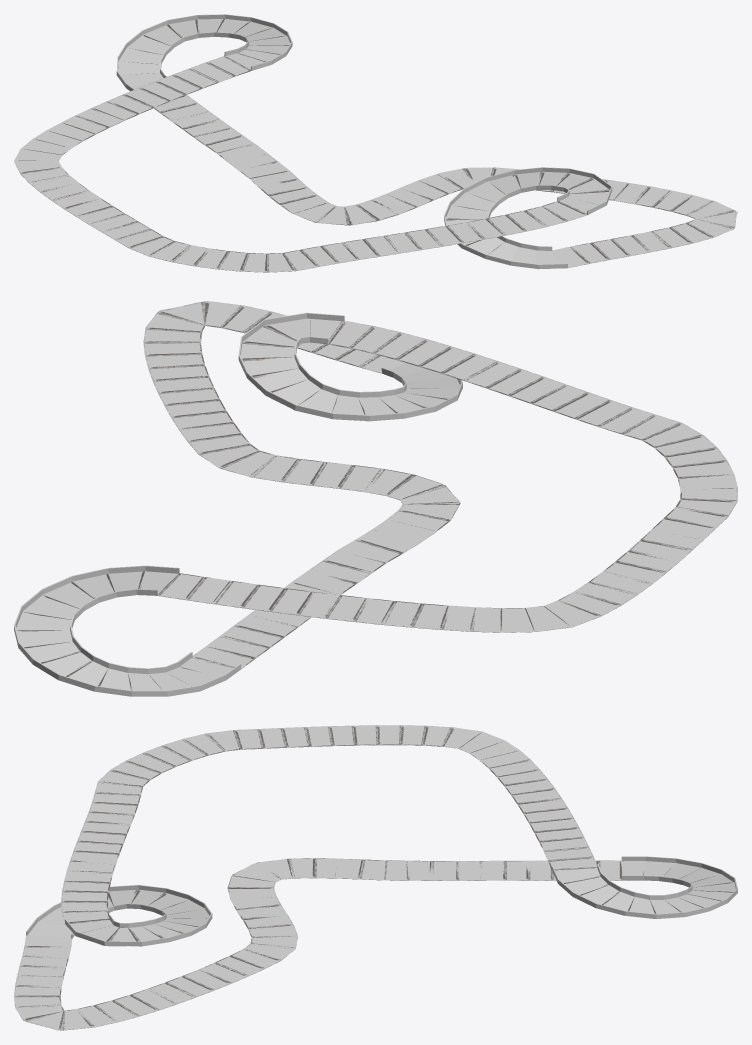
File: Track2.fbx
3 views of the same model, one above another, from view 1: azimuth 30°, elevation 25°; view 2: azimuth 150°, elevation 25°; view 3: azimuth 270°, elevation 25° (orthographic). The views are drawn at different scales.
Visible parts, largest first — view 1: TrackFloor, TrackHolo, TrackStructure, TrackWalls; view 2: TrackFloor, TrackHolo, TrackStructure, TrackWalls; view 3: TrackFloor, TrackHolo, TrackStructure, TrackWalls.
Part boxes in pixels (x1,y1,x2,y2): TrackFloor: [14, 19, 737, 272]; TrackHolo: [20, 20, 736, 271]; TrackStructure: [14, 19, 736, 272]; TrackWalls: [116, 14, 612, 269]; TrackFloor: [16, 301, 737, 690]; TrackHolo: [78, 302, 736, 672]; TrackStructure: [17, 301, 737, 690]; TrackWalls: [14, 312, 462, 696]; TrackFloor: [14, 725, 735, 1030]; TrackHolo: [15, 725, 694, 1029]; TrackStructure: [14, 725, 732, 1030]; TrackWalls: [26, 856, 737, 946].
Bounding box in the file's own units: 55351 × 3421 × 61893.
